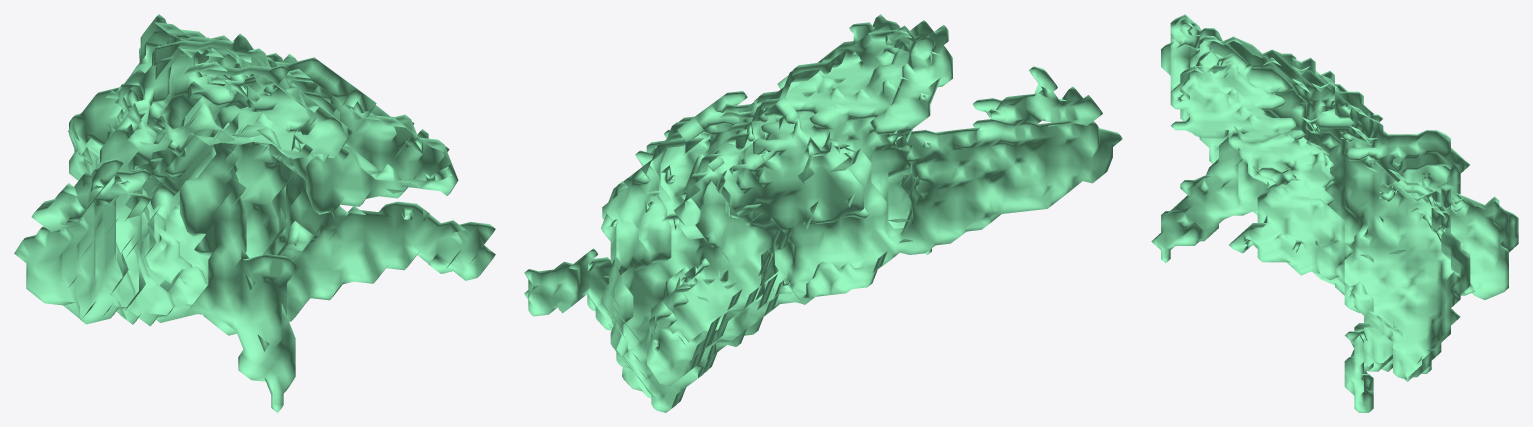
Rendered from osteocyte_64.glb.
3 renders of one model, left to right at view 1: azimuth 30°, elevation 25°; view 2: azimuth 150°, elevation 25°; view 3: azimuth 270°, elevation 25°, orthographic. The views are drawn at different scales.
Visible parts, largest first — view 1: osteocyte_64; view 2: osteocyte_64; view 3: osteocyte_64.
Boxes of the visible parts, <box> form: osteocyte_64: <box>14,14,495,412</box>; osteocyte_64: <box>524,14,1122,412</box>; osteocyte_64: <box>1151,14,1518,412</box>.
Bounding box in the file's own units: 24.07 × 15.41 × 18.3.
